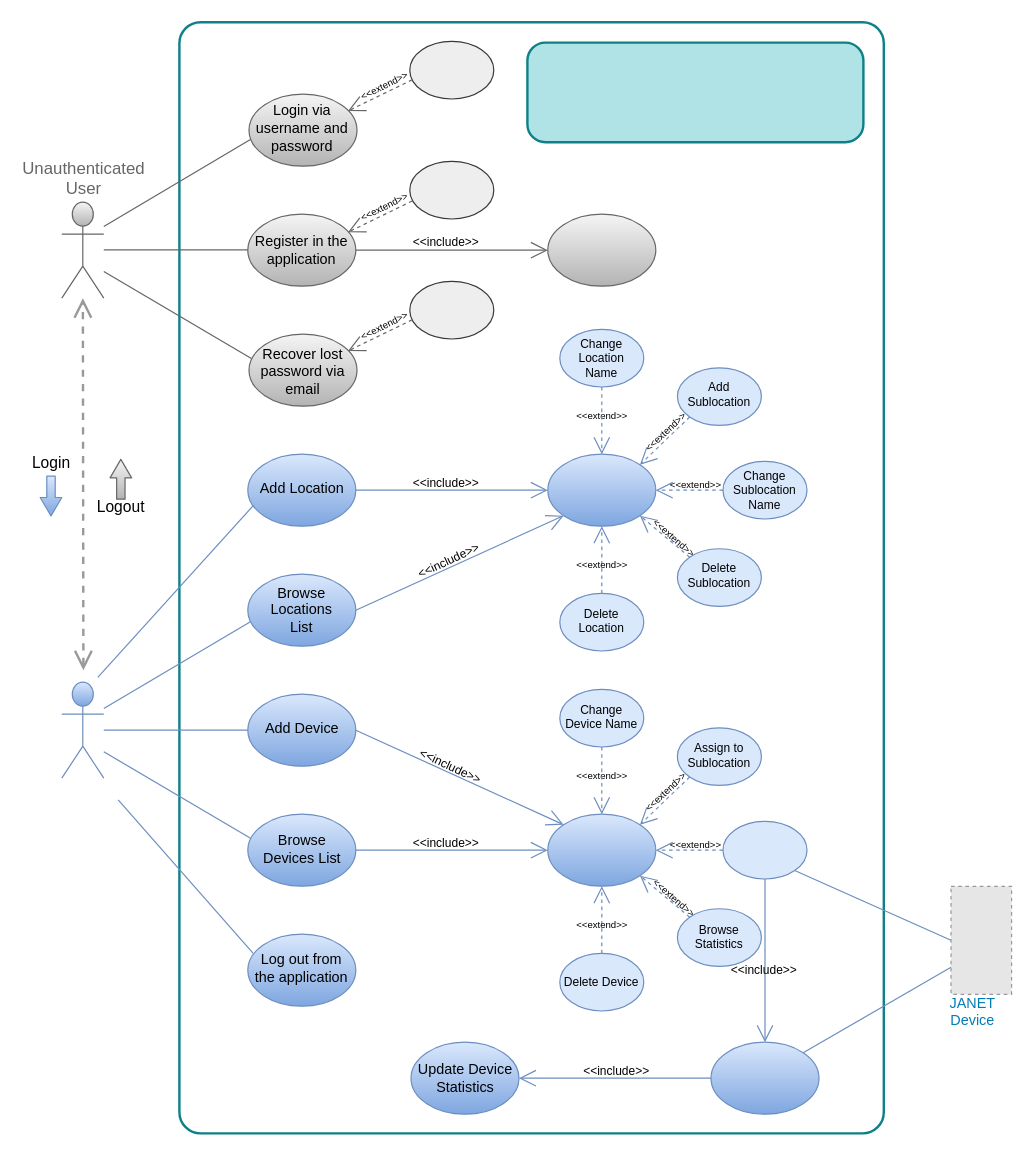
The diagram is 1032 pixels wide and 1154 high, and some of its shapes have lost their labels. Grey dashed boxes stand in for pictures. Each missing label, with the box of its shape:
Authenticated User: (61, 681, 104, 778)
Issue Command: (722, 820, 807, 879)
JANET Service Use Cases Diagram: (526, 41, 864, 143)
Report State Update: (710, 1041, 819, 1114)
Send verification e-mail: (547, 213, 656, 286)
Unknown E-mail Address: (409, 280, 494, 339)
Username Already Exists: (409, 160, 494, 219)
View Device: (547, 813, 656, 886)
View Location: (547, 453, 656, 526)
Wrong Credentials: (409, 40, 494, 99)
